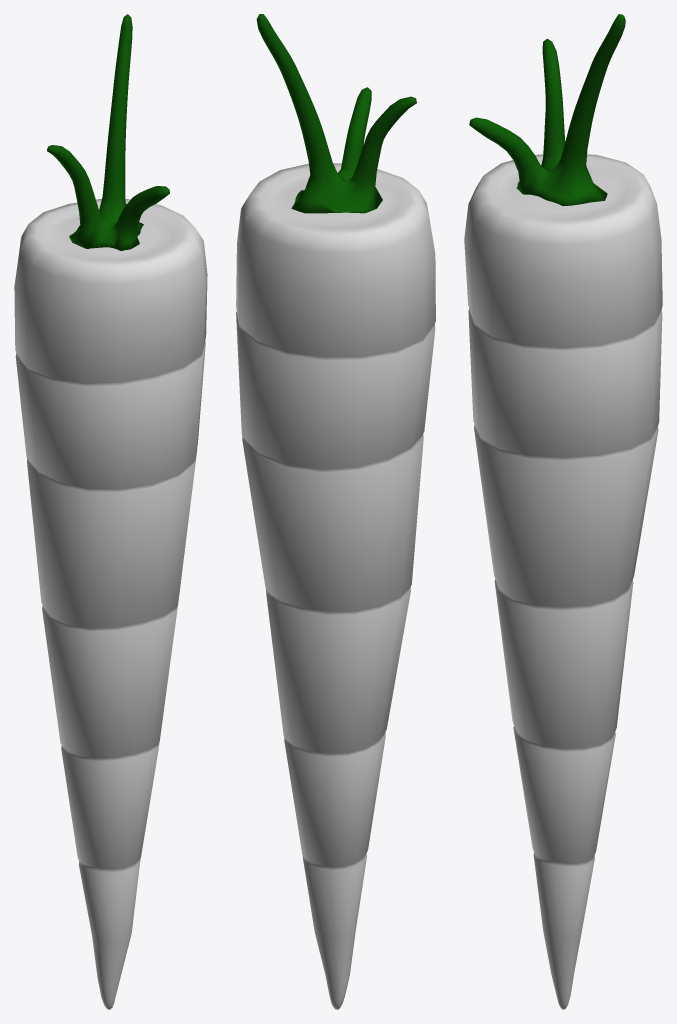
Rendered from Carrot.fbx.
3 views of the same model, side by side, from view 1: azimuth 30°, elevation 25°; view 2: azimuth 150°, elevation 25°; view 3: azimuth 270°, elevation 25° (orthographic). The views are drawn at different scales.
Parts seen in each view (by area): view 1: Carrot; view 2: Carrot; view 3: Carrot.
Part boxes in pixels (x1,y1,x2,y2): Carrot: [14, 14, 207, 1009]; Carrot: [236, 14, 435, 1009]; Carrot: [464, 14, 662, 1009].
Bounding box in the file's own units: 0.0862 × 0.4726 × 0.0834.
